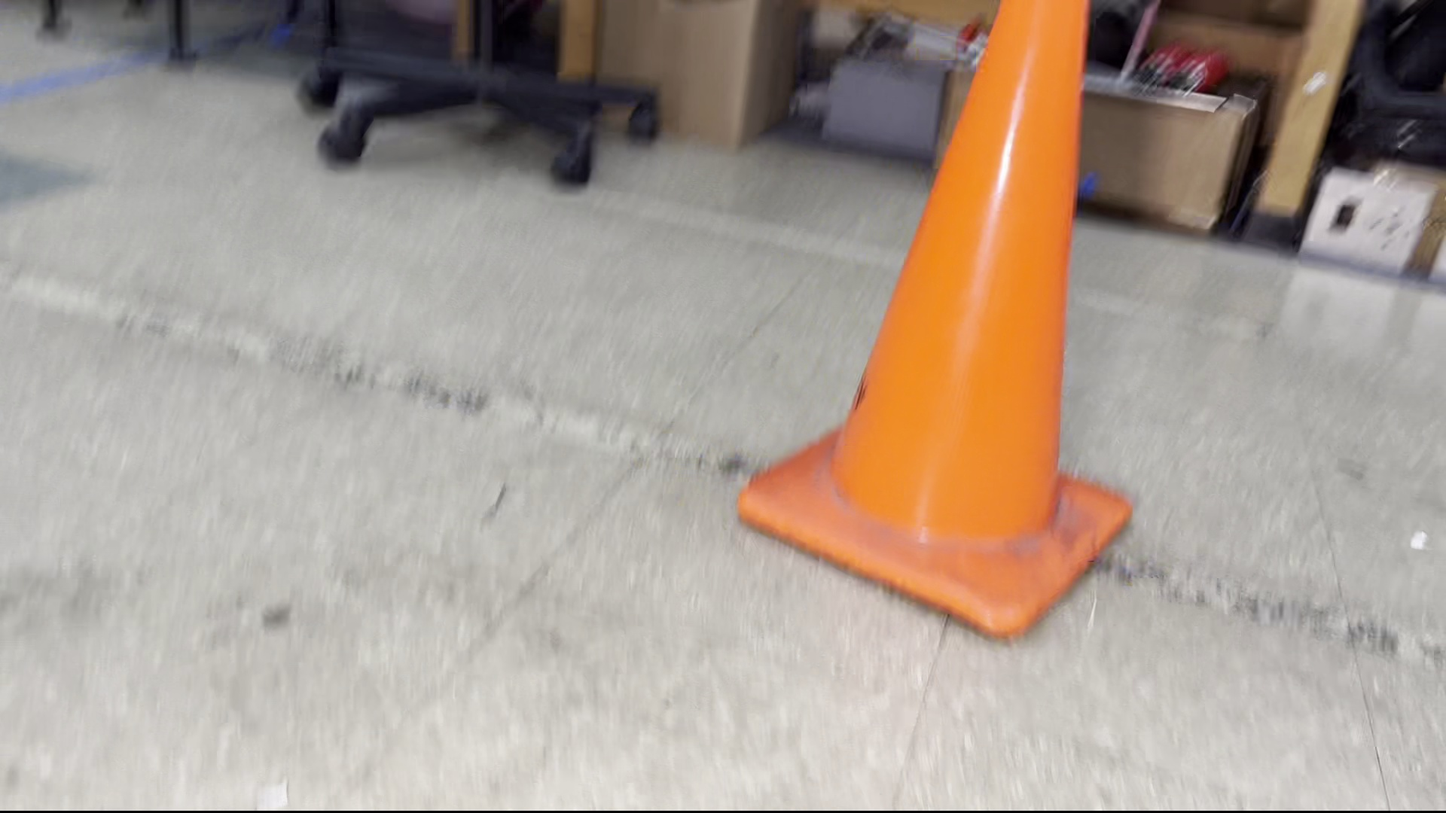traffic_cone: (735, 0, 1134, 642)
